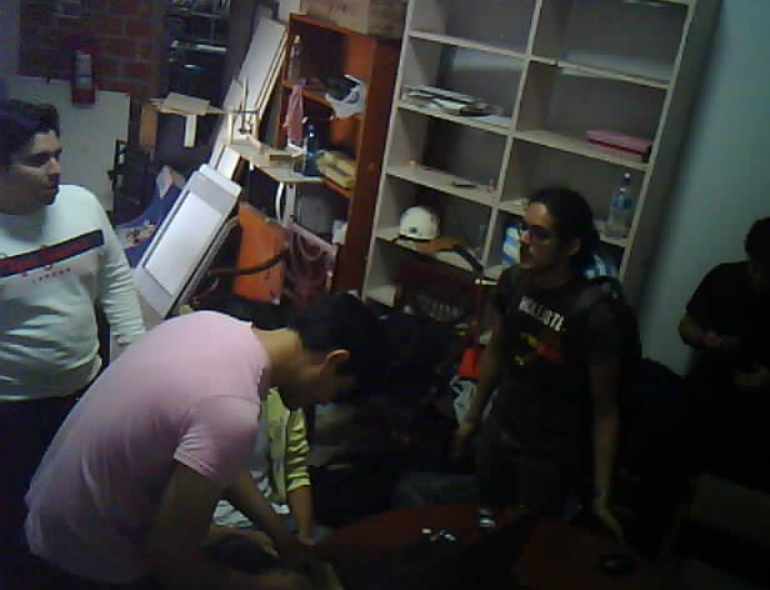person: (0, 285, 417, 590), (436, 165, 648, 566), (0, 108, 153, 486), (662, 185, 770, 481)
